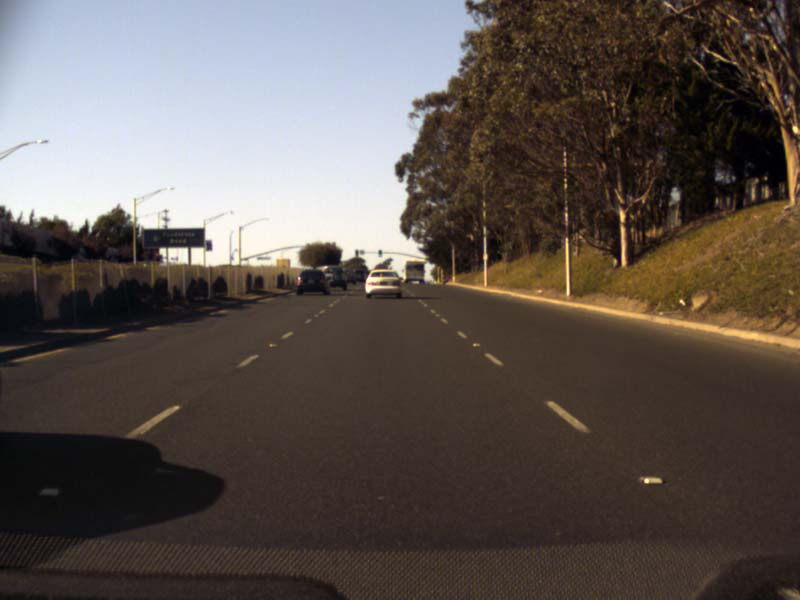Green: (378, 250, 381, 256)
